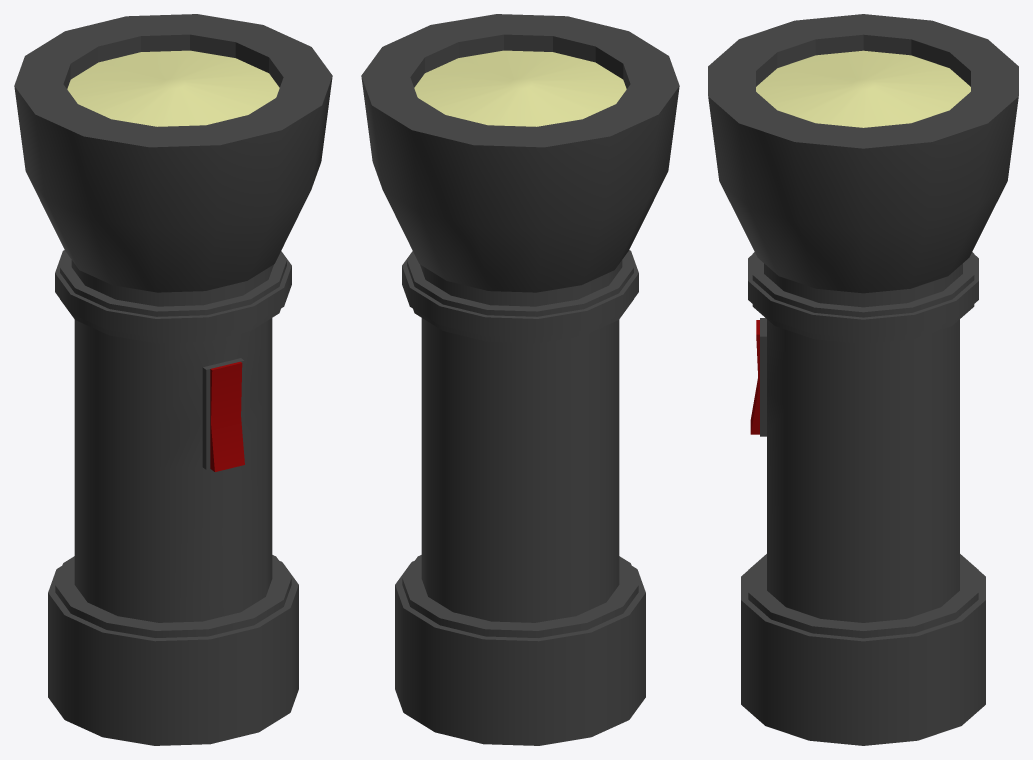
File: T2_FLASHLIGHT.fbx
The picture shows the model from 3 angles, left to right: view 1: azimuth 30°, elevation 25°; view 2: azimuth 150°, elevation 25°; view 3: azimuth 270°, elevation 25°; orthographic projection.
Parts seen in each view (by area): view 1: FLASHLIGHT; view 2: FLASHLIGHT; view 3: FLASHLIGHT.
Part boxes in pixels (left/top/right/bottom): FLASHLIGHT: left=14, top=14, right=332, bottom=745; FLASHLIGHT: left=361, top=14, right=679, bottom=745; FLASHLIGHT: left=708, top=14, right=1018, bottom=745.
Bounding box in the file's own units: 0.4454 × 0.4342 × 0.9431.
